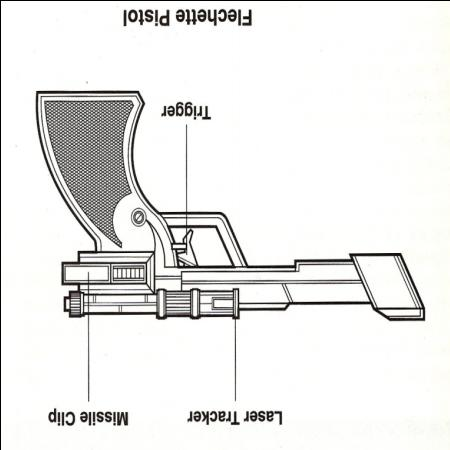Pistol: (34, 88, 430, 326)
